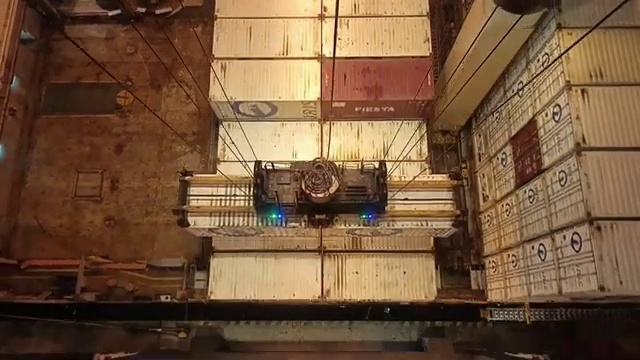container: (164, 168, 469, 239), (211, 59, 438, 118), (205, 250, 440, 306), (208, 204, 442, 252), (215, 161, 434, 211), (208, 19, 433, 59), (209, 0, 435, 17)
guide_mark: (110, 342, 543, 360), (66, 354, 561, 360)
spreader: (168, 155, 468, 231)
target_slot: (169, 153, 469, 236)
